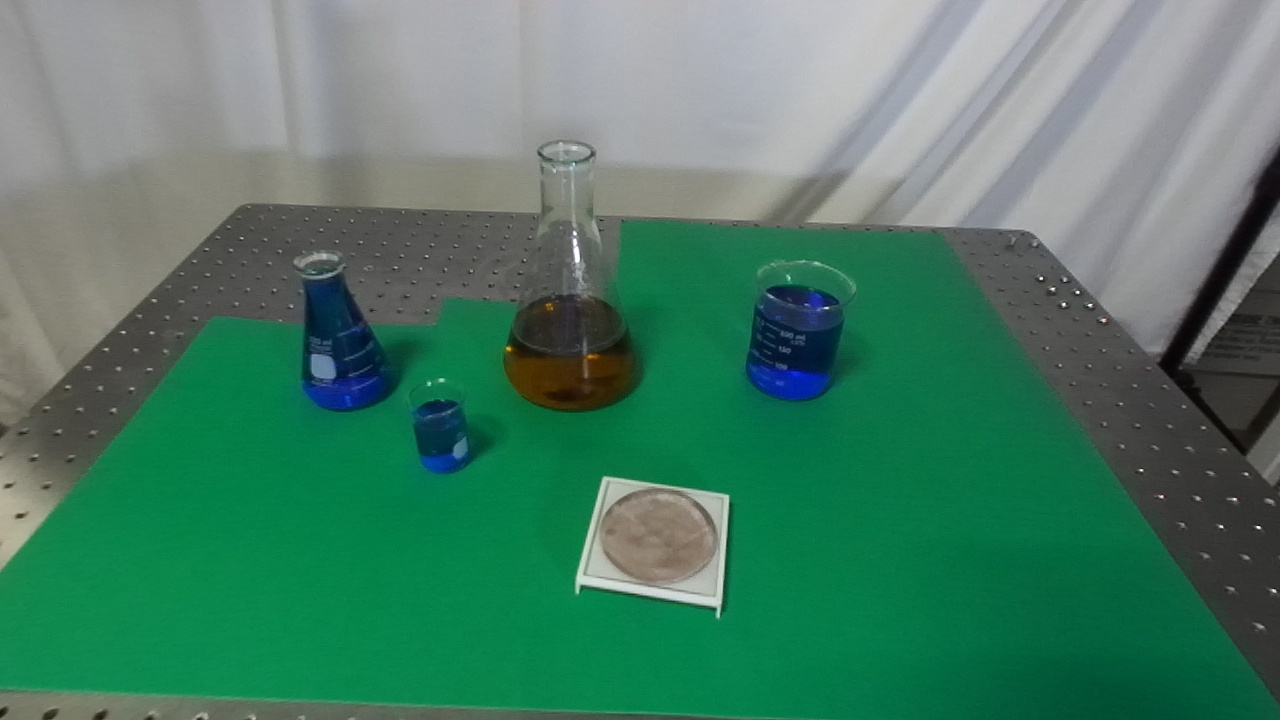glass: (496, 135, 647, 416), (287, 242, 400, 418), (741, 256, 863, 404), (403, 375, 474, 476)
plate: (569, 471, 736, 622)
